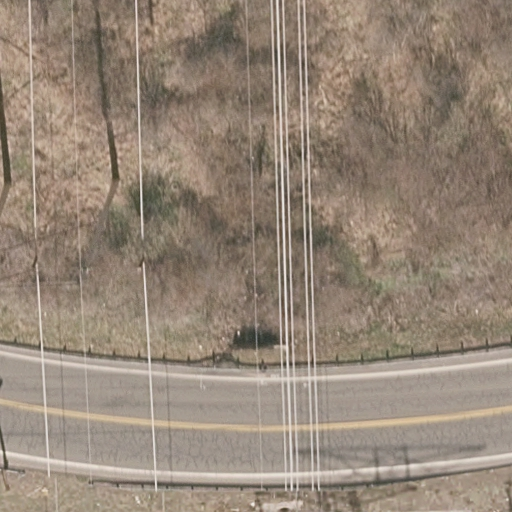TT: (1, 1, 121, 182)
